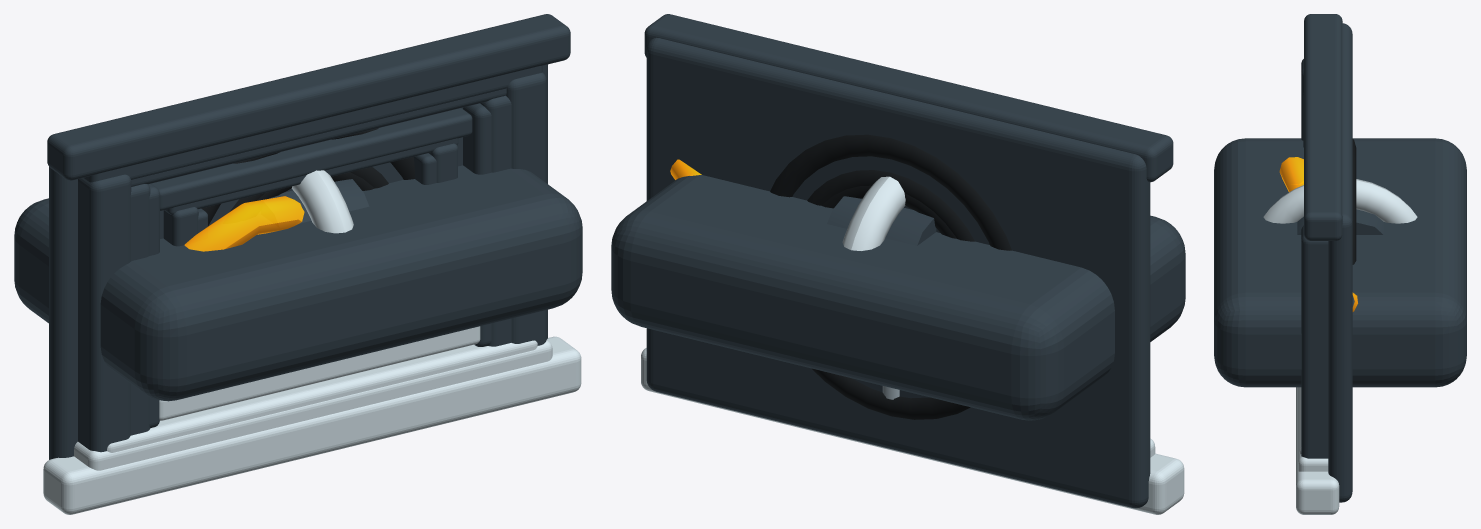
File: body_16.glb
3 renders of one model, left to right at view 1: azimuth 30°, elevation 25°; view 2: azimuth 150°, elevation 25°; view 3: azimuth 270°, elevation 25°, orthographic. The views are drawn at different scales.
Visible parts, largest first — view 1: asset_mesh__body_0827__reference_body, asset_mesh__body_0818__lower_flange, asset_mesh__body_0818__upper_flange, asset_mesh__body_0818__left_reinforcement, asset_mesh__body_0818__stamped_sheet, asset_mesh__body_0820__lower_flange, asset_mesh__body_0815__upper_flange, asset_mesh__body_0816__upper_flange, asset_mesh__body_0816__lower_flange, asset_mesh__body_0820__upper_flange, asset_mesh__body_0818__right_reinforcement, asset_mesh__body_0869__fluid_path (+12 smaller); view 2: asset_mesh__body_0818__stamped_sheet, asset_mesh__body_0827__reference_body, asset_mesh__body_0818__lower_flange, asset_mesh__body_0845__service_element, asset_mesh__body_0818__upper_flange, asset_mesh__body_0848__functional_ring, asset_mesh__body_0858__service_element, asset_mesh__body_0848__rotor, asset_mesh__body_0839__service_element; view 3: asset_mesh__body_0827__reference_body, asset_mesh__body_0818__lower_flange, asset_mesh__body_0818__stamped_sheet, asset_mesh__body_0818__right_reinforcement, asset_mesh__body_0848__functional_ring, asset_mesh__body_0818__upper_flange, asset_mesh__body_0869__fluid_path, asset_mesh__body_0848__rotor, asset_mesh__body_0845__service_element, asset_mesh__body_0816__upper_flange.
Part boxes in pixels (box(x1,y1,x2,y2)): asset_mesh__body_0827__reference_body: box(14, 165, 582, 401); asset_mesh__body_0818__lower_flange: box(47, 14, 570, 180); asset_mesh__body_0818__upper_flange: box(43, 336, 581, 514); asset_mesh__body_0818__left_reinforcement: box(78, 174, 131, 452); asset_mesh__body_0818__stamped_sheet: box(49, 64, 547, 459); asset_mesh__body_0820__lower_flange: box(151, 108, 472, 210); asset_mesh__body_0815__upper_flange: box(107, 340, 537, 452); asset_mesh__body_0816__upper_flange: box(74, 340, 552, 470); asset_mesh__body_0816__lower_flange: box(84, 65, 542, 182); asset_mesh__body_0820__upper_flange: box(159, 326, 480, 420); asset_mesh__body_0818__right_reinforcement: box(506, 72, 546, 345); asset_mesh__body_0869__fluid_path: box(184, 196, 304, 251); asset_mesh__body_0818__stamped_sheet: box(646, 37, 1150, 508); asset_mesh__body_0827__reference_body: box(611, 175, 1185, 420); asset_mesh__body_0818__lower_flange: box(644, 14, 1173, 182); asset_mesh__body_0845__service_element: box(770, 134, 1011, 419); asset_mesh__body_0818__upper_flange: box(641, 348, 1184, 514); asset_mesh__body_0848__functional_ring: box(842, 176, 905, 250); asset_mesh__body_0858__service_element: box(807, 170, 974, 241); asset_mesh__body_0848__rotor: box(827, 196, 936, 245); asset_mesh__body_0839__service_element: box(822, 185, 956, 238); asset_mesh__body_0827__reference_body: box(1214, 138, 1466, 387); asset_mesh__body_0818__lower_flange: box(1304, 14, 1342, 240); asset_mesh__body_0818__stamped_sheet: box(1328, 23, 1352, 502); asset_mesh__body_0818__right_reinforcement: box(1301, 225, 1328, 458); asset_mesh__body_0848__functional_ring: box(1263, 179, 1417, 223); asset_mesh__body_0818__upper_flange: box(1296, 387, 1339, 514); asset_mesh__body_0869__fluid_path: box(1279, 157, 1357, 311); asset_mesh__body_0848__rotor: box(1297, 209, 1383, 234); asset_mesh__body_0845__service_element: box(1352, 139, 1356, 264); asset_mesh__body_0816__upper_flange: box(1298, 387, 1328, 471).
Size of the model in its own units: 1.72 by 1.15 by 0.882.
